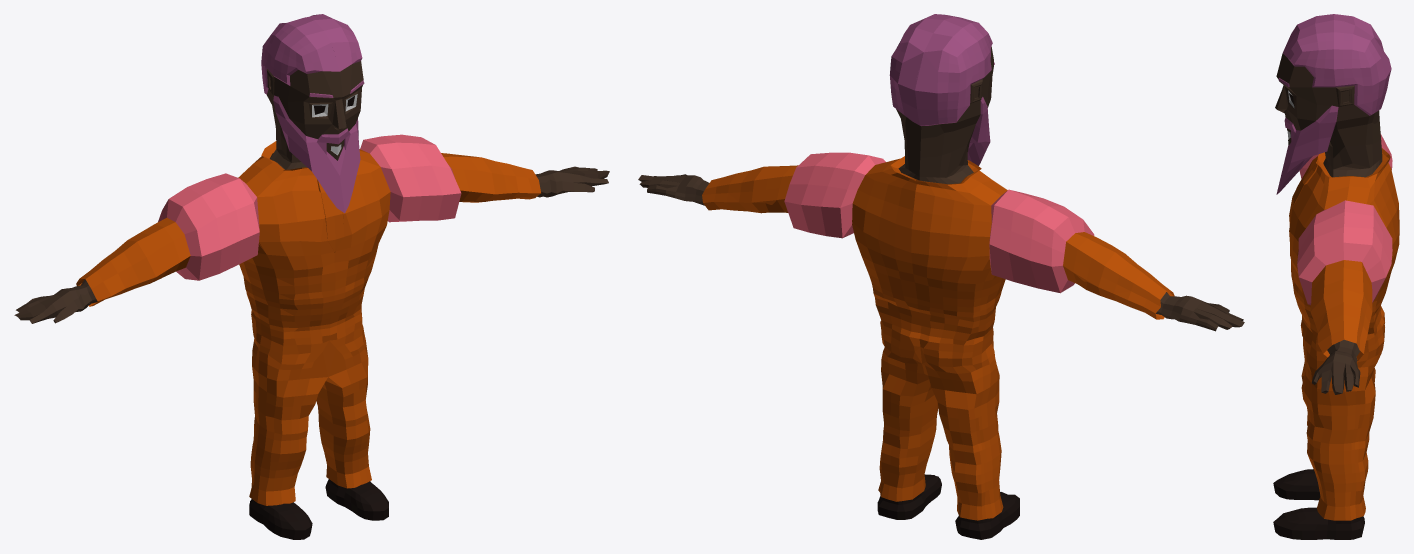
File: zatovrenik_pink.fbx
The picture shows the model from 3 angles, left to right: view 1: azimuth 30°, elevation 25°; view 2: azimuth 150°, elevation 25°; view 3: azimuth 270°, elevation 25°; orthographic projection.
Visible parts, largest first — view 1: ROBA.001, LIK1.002; view 2: ROBA.001, LIK1.002; view 3: ROBA.001, LIK1.002.
Part boxes in pixels (x1,y1,x2,y2): ROBA.001: (76, 134, 540, 505); LIK1.002: (14, 14, 609, 539); ROBA.001: (702, 152, 1174, 520); LIK1.002: (638, 14, 1244, 539); ROBA.001: (1289, 134, 1399, 520); LIK1.002: (1273, 14, 1391, 539).
Bounding box in the file's own units: 1350 × 1064 × 247.
